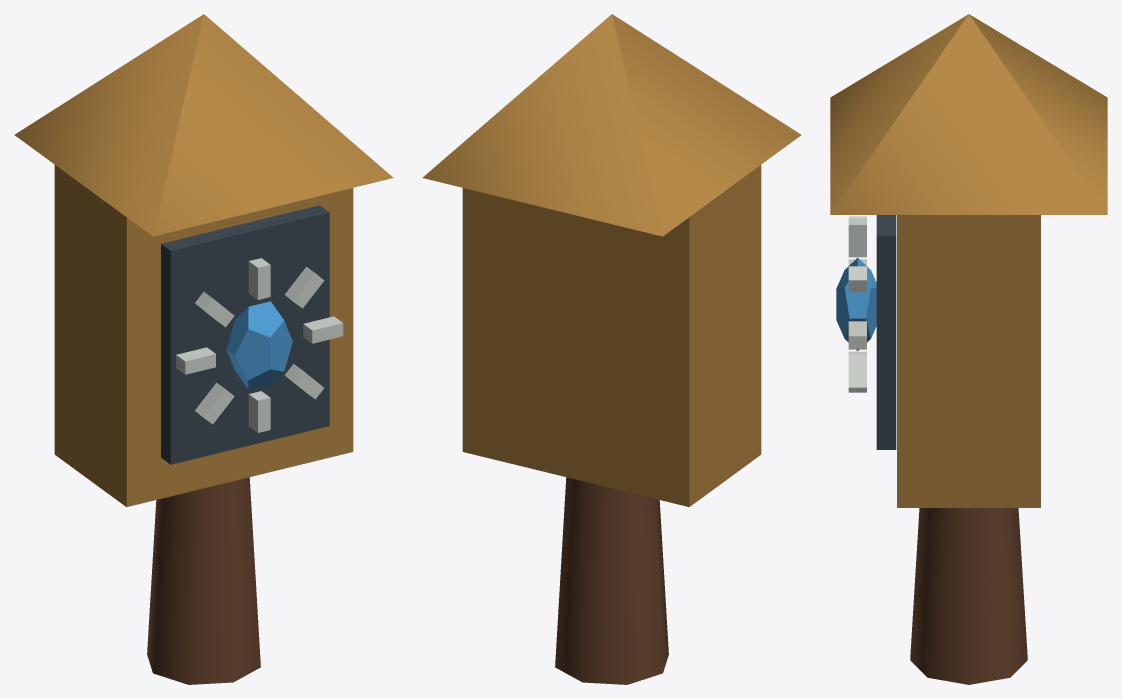
File: holy-reliquary.glb
The picture shows the model from 3 angles, left to right: view 1: azimuth 30°, elevation 25°; view 2: azimuth 150°, elevation 25°; view 3: azimuth 270°, elevation 25°; orthographic projection.
Visible parts, largest first — view 1: reliquary-case, reliquary-roof, reliquary-door, reliquary-handle, reliquary-sun-ray (×8), reliquary-relic; view 2: reliquary-case, reliquary-roof, reliquary-handle; view 3: reliquary-roof, reliquary-case, reliquary-handle, reliquary-door, reliquary-sun-ray (×4), reliquary-relic.
Boxes of the visible parts, box(x1,y1,x2,y2) form: reliquary-case: box(54, 165, 353, 507); reliquary-roof: box(14, 14, 393, 236); reliquary-door: box(161, 205, 329, 464); reliquary-handle: box(147, 477, 260, 684); reliquary-sun-ray (×8): box(176, 258, 343, 432); reliquary-relic: box(226, 301, 292, 389); reliquary-case: box(462, 165, 761, 507); reliquary-roof: box(422, 14, 801, 236); reliquary-handle: box(555, 477, 668, 684); reliquary-roof: box(830, 14, 1107, 214); reliquary-case: box(897, 215, 1040, 507); reliquary-handle: box(910, 508, 1027, 684); reliquary-door: box(876, 215, 896, 449); reliquary-sun-ray (×4): box(848, 219, 866, 392); reliquary-relic: box(836, 257, 876, 350).
Bounding box in the file's own units: 0.2121 × 0.545 × 0.2121.
